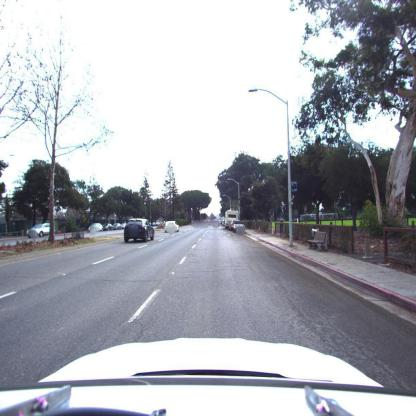bench: (308, 229, 328, 250)
car: (123, 219, 154, 243), (28, 223, 57, 240), (165, 221, 181, 234), (87, 222, 104, 234), (232, 221, 246, 233), (102, 221, 114, 234), (114, 223, 123, 232)
truck: (224, 210, 239, 230)
